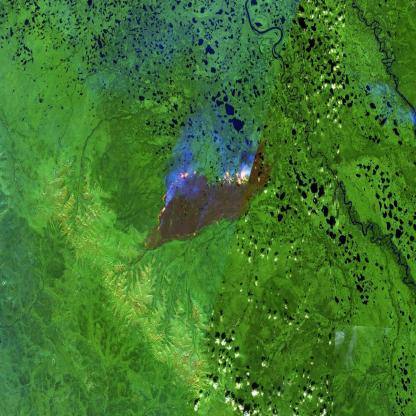fire: (152, 158, 265, 226)
